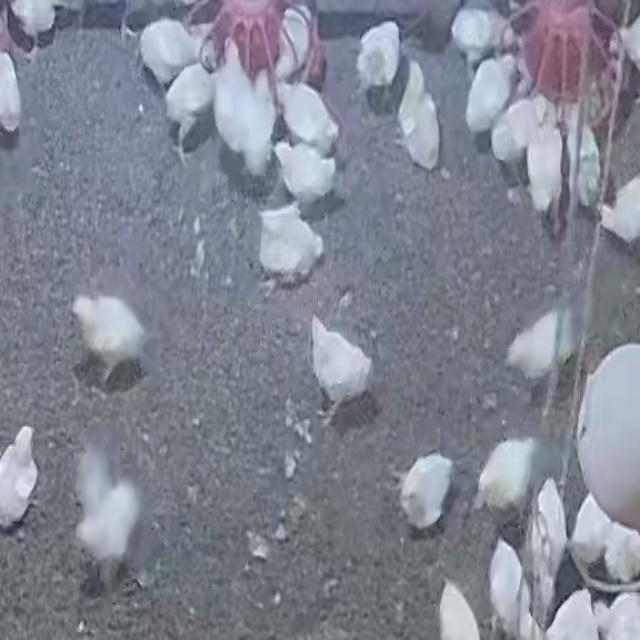chicken: (72, 423, 159, 593), (569, 491, 640, 586), (310, 313, 373, 419), (70, 294, 145, 383), (256, 200, 323, 284), (507, 304, 579, 382), (530, 475, 568, 619), (474, 438, 542, 515), (490, 91, 548, 181), (395, 62, 440, 172), (277, 81, 339, 154), (241, 68, 280, 183), (137, 18, 200, 89), (525, 108, 565, 219), (449, 4, 519, 66), (399, 452, 453, 532), (272, 138, 335, 206), (162, 63, 215, 142), (464, 54, 516, 133), (0, 423, 39, 527), (487, 536, 527, 636), (217, 37, 252, 150), (565, 113, 604, 209), (354, 20, 402, 90), (597, 170, 639, 244), (277, 2, 311, 81), (8, 0, 58, 38), (0, 48, 22, 134)
